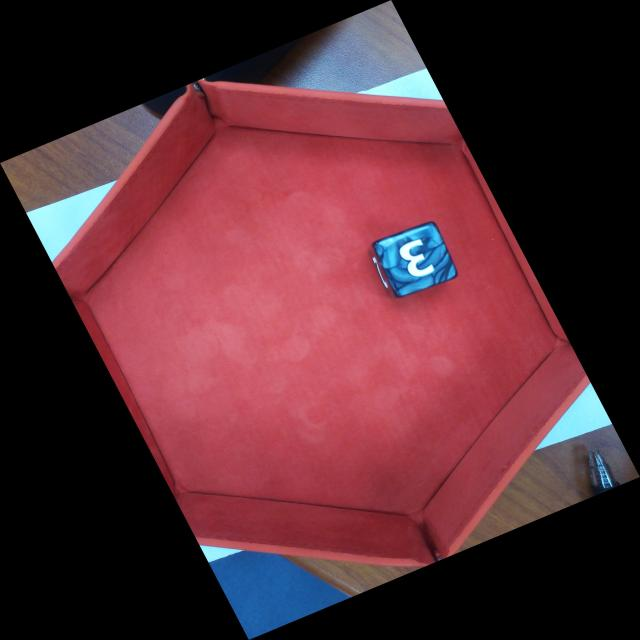dice: (371, 218, 463, 301)
